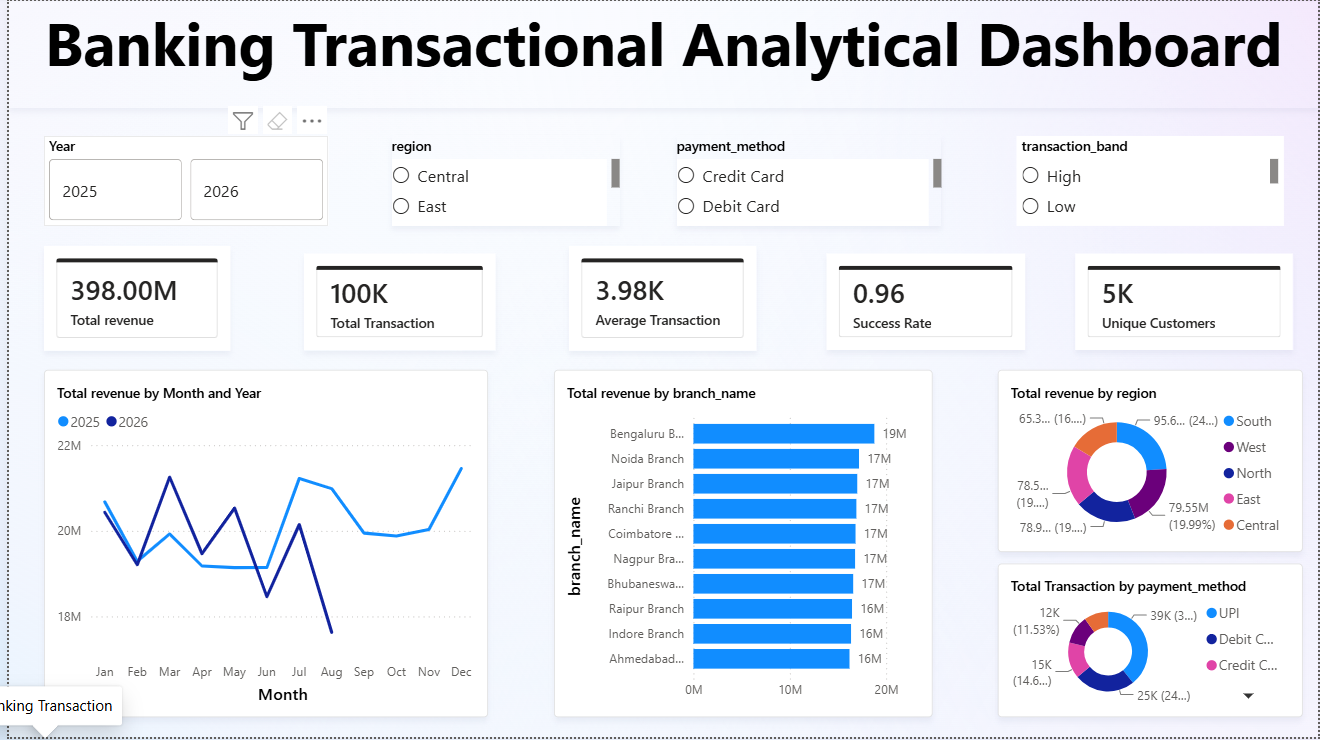

This screenshot's page, from the dashboard's own definition file:
{"tool":"powerbi","page":{"name":"Banking Transaction","canvas":[1280,720],"ordinal":0},"visuals":[{"type":"textbox","box":[0,0,1280.6,105.1],"z":0},{"type":"cardVisual","fields":{"Data":["banking_master.Total revenue"]},"box":[33.7,239.8,182.7,102],"z":1000},{"type":"cardVisual","fields":{"Data":["banking_master.Total Transaction"]},"box":[288.8,246.9,187.8,94.9],"z":2000},{"type":"cardVisual","fields":{"Data":["banking_master.Average Transaction"]},"box":[548,239.8,183.7,102],"z":3000},{"type":"cardVisual","fields":{"Data":["banking_master.Success Rate"]},"box":[800,247.2,194.4,94.4],"z":4000},{"type":"cardVisual","fields":{"Data":["banking_master.Unique Customers"]},"box":[1042.7,247.2,213.5,94.4],"z":5000},{"type":"lineChart","fields":{"Category":["Calendar.Month"],"Y":["banking_master.Total revenue"],"Series":["Calendar.Date.Variation.Date Hierarchy.Year"]},"box":[34.2,360.7,434.1,339.9],"z":6000},{"type":"donutChart","fields":{"Category":["banking_master.region"],"Y":["banking_master.Total revenue"]},"box":[967.3,360.7,298.4,178.5],"z":7000},{"type":"clusteredBarChart","fields":{"Category":["banking_master.branch_name"],"Y":["banking_master.Total revenue"]},"box":[533.2,360.7,370.5,339.9],"z":8000},{"type":"donutChart","fields":{"Category":["banking_master.payment_method"],"Y":["banking_master.Total Transaction"]},"box":[967.3,550.3,298.4,150.4],"z":9000},{"type":"advancedSlicerVisual","fields":{"Values":["Calendar.Date.Variation.Date Hierarchy.Year"]},"box":[33.7,132.6,278.7,87.6],"z":10000},{"type":"listSlicer","fields":{"Values":["banking_master.region"]},"box":[374.2,132.6,223.6,87.6],"z":11000},{"type":"listSlicer","fields":{"Values":["banking_master.payment_method"]},"box":[652.8,132.6,259.6,87.6],"z":12000},{"type":"listSlicer","fields":{"Values":["banking_master.transaction_band"]},"box":[985.4,132.6,261.8,87.6],"z":13000}]}

Visuals, with their boxes on the page's 1280x720 design canvas (x1, y1, x2, y2). These are canvas units, not pixel positions in the 1320x740 screenshot, which may show the page scaled, cropped or inside an application window:
textbox: 0 0 1281 105
cardVisual - banking_master.Total revenue: 34 240 216 342
cardVisual - banking_master.Total Transaction: 289 247 477 342
cardVisual - banking_master.Average Transaction: 548 240 732 342
cardVisual - banking_master.Success Rate: 800 247 994 342
cardVisual - banking_master.Unique Customers: 1043 247 1256 342
lineChart - Calendar.Month x banking_master.Total revenue: 34 361 468 701
donutChart - banking_master.region x banking_master.Total revenue: 967 361 1266 539
clusteredBarChart - banking_master.branch_name x banking_master.Total revenue: 533 361 904 701
donutChart - banking_master.payment_method x banking_master.Total Transaction: 967 550 1266 701
advancedSlicerVisual - Calendar.Date.Variation.Date Hierarchy.Year: 34 133 312 220
listSlicer - banking_master.region: 374 133 598 220
listSlicer - banking_master.payment_method: 653 133 912 220
listSlicer - banking_master.transaction_band: 985 133 1247 220
